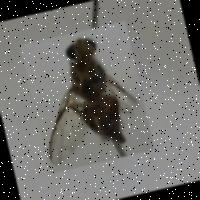Oriental-fruit-fly: (19, 19, 154, 172)
